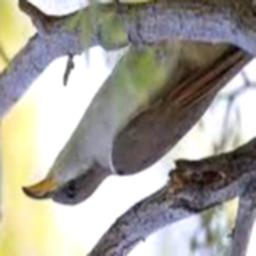Cuckoo: (23, 39, 256, 207)
